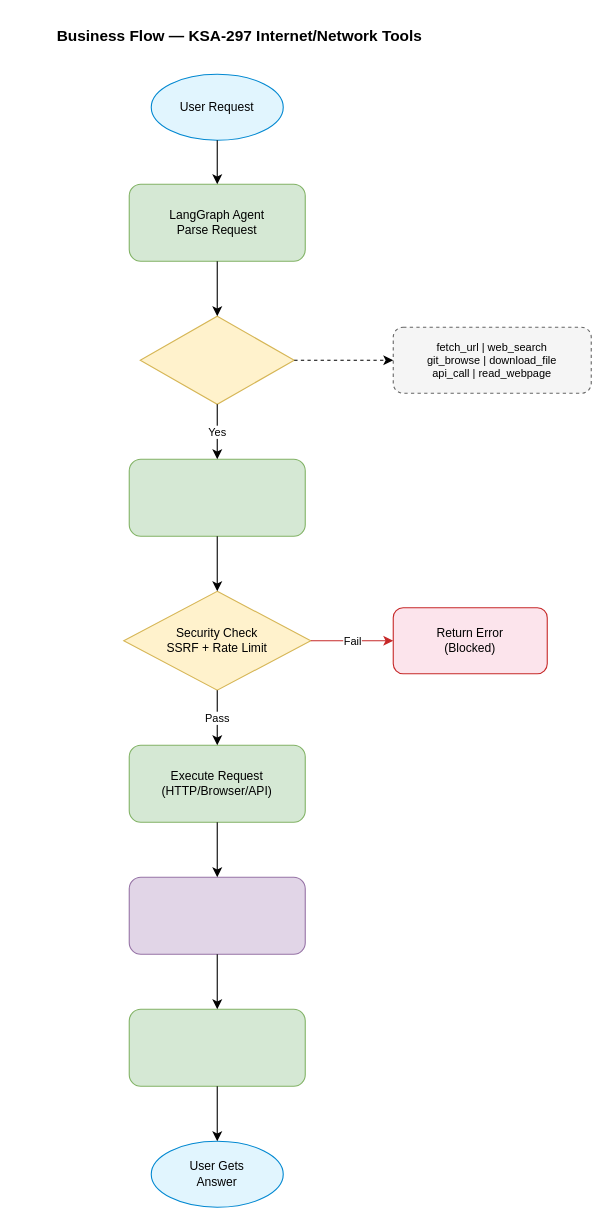
Image size: 611x1227. Some labels were removed from this diagram. Here are the shapes that lost their labels. From the top down, the box of each, then its label:
(139, 315, 294, 404): Select Tool?
(128, 458, 305, 536): MCP Bridge Route to Backend
(128, 876, 305, 954): Truncate/Sanitize (max 100KB)
(128, 1008, 305, 1086): Return to Agent via MCP
